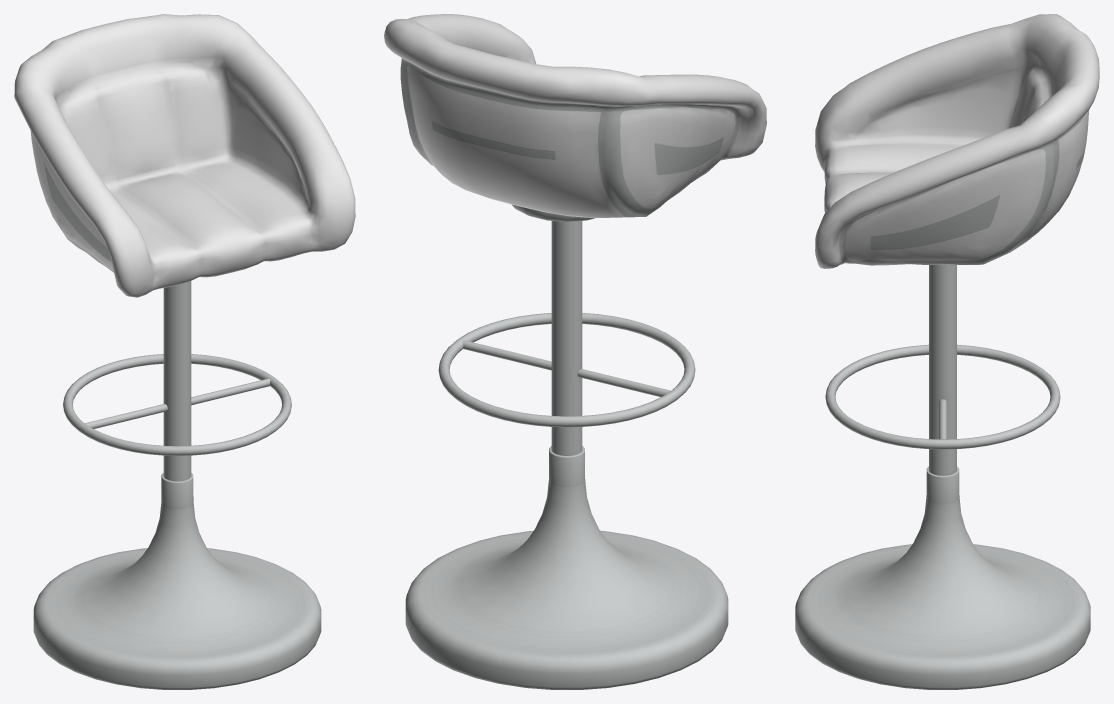
File: BarChair05.FBX
3 views of the same model, side by side, from view 1: azimuth 30°, elevation 25°; view 2: azimuth 150°, elevation 25°; view 3: azimuth 270°, elevation 25° (orthographic). The views are drawn at different scales.
Visible parts, largest first — view 1: BarChair05; view 2: BarChair05; view 3: BarChair05.
Boxes of the visible parts, x1,y1,x2,y2 form: BarChair05: (14,14,355,689); BarChair05: (384,14,766,689); BarChair05: (795,14,1099,689).
Size of what is drawn, in the model's own units: 0.4943 by 1.03 by 0.4972.
